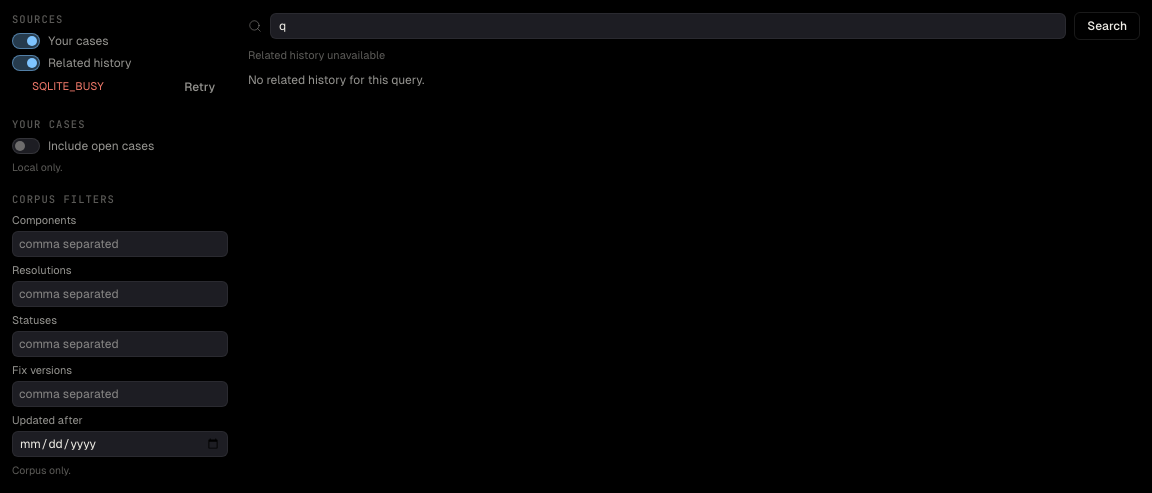
Test case: RelatedHistoryExplorer › a sticky id clears once a request that could have reported it does not › clears the synthetic "related-history" row after a healthy round
This screenshot has width=1152, height=493.
expect the text "SQLITE_BUSY" is shown: met, box x1=32 y1=80 x2=104 y2=92
expect the switch named "Search Related history" is shown: met, box x1=12 y1=55 x2=228 y2=71
Replace the text in the field named "Search related history" with "battery soc" at (668, 26), box x1=270 y1=13 x2=1066 y2=39
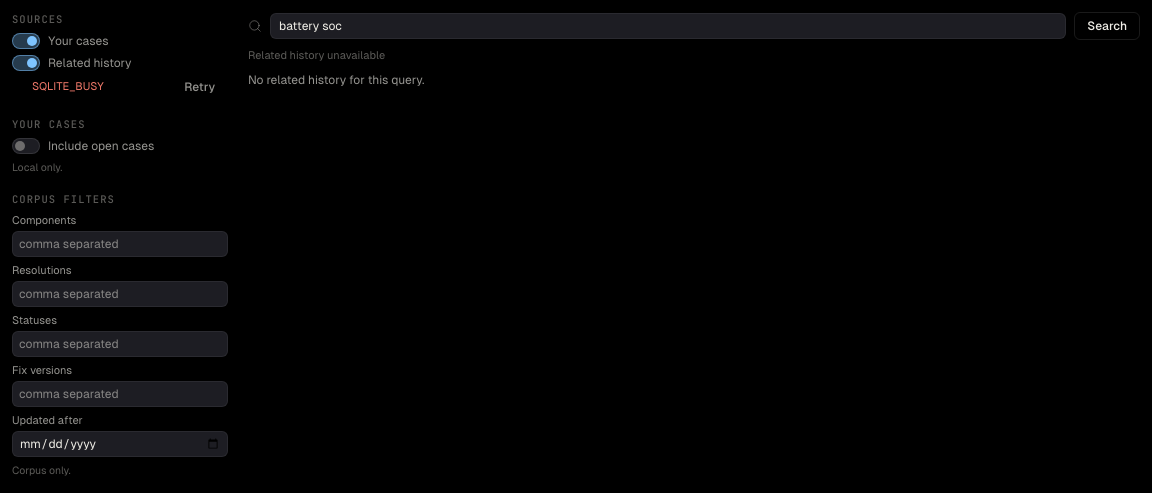
Submit the form, box x1=248 y1=12 x2=1140 y2=40
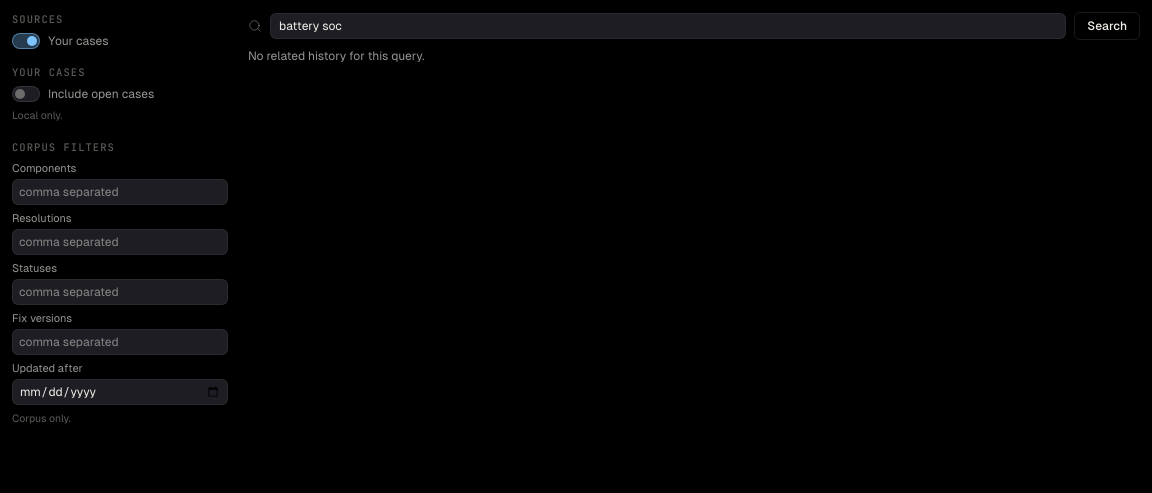
expect the text "SQLITE_BUSY" is gone: met
expect the field labelled "Search Related history" is gone: met
